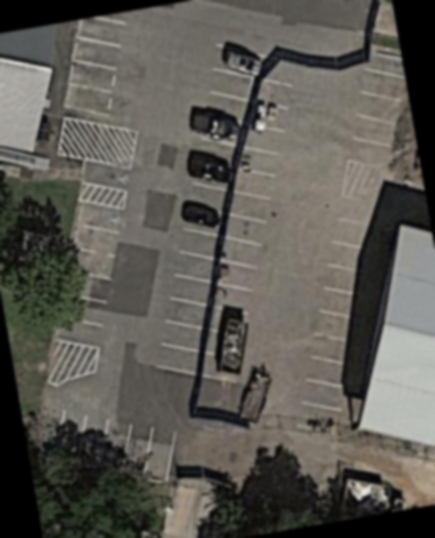parkingspot: (153, 42, 298, 379), (293, 214, 386, 438), (212, 124, 290, 318), (53, 199, 128, 352), (52, 407, 180, 486), (62, 11, 132, 122), (345, 65, 408, 172), (80, 158, 136, 194)
